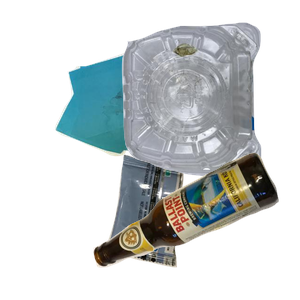glass: (91, 150, 300, 300)
paper: (52, 49, 209, 198)
plastic: (119, 20, 300, 190)
trash: (104, 152, 280, 300)
